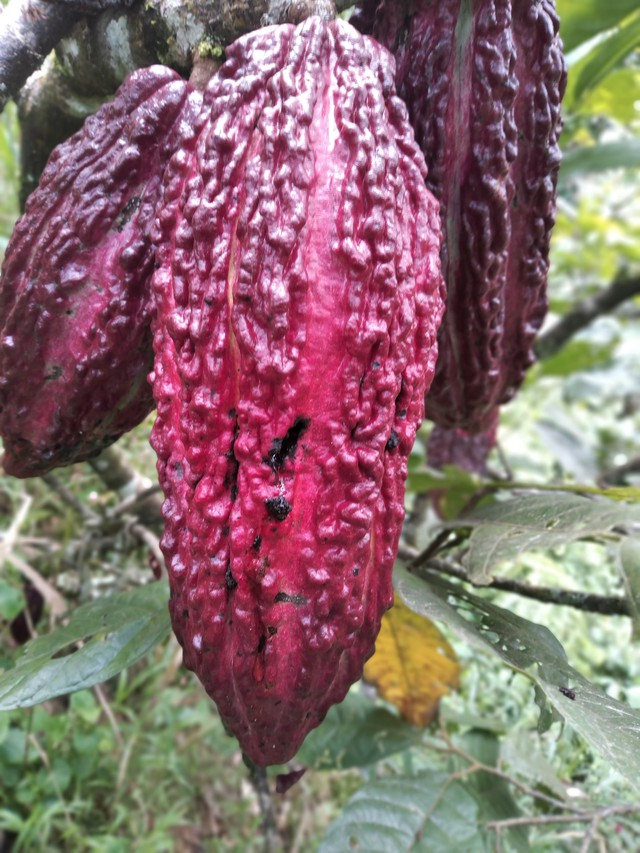carmenta foraseminis: (140, 15, 450, 770), (0, 64, 186, 468), (429, 1, 569, 429)
